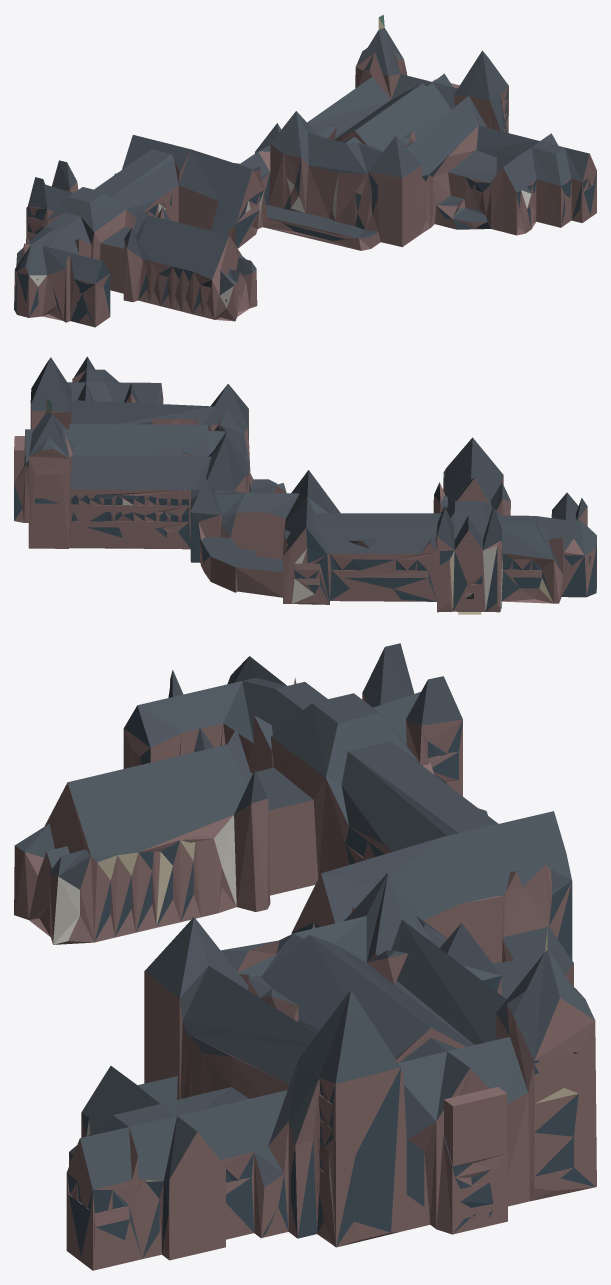
Rendered from tropenmuseum.lod2.glb.
The picture shows the model from 3 angles, top to bottom: view 1: azimuth 30°, elevation 25°; view 2: azimuth 150°, elevation 25°; view 3: azimuth 270°, elevation 25°; orthographic projection. The views are drawn at different scales.
Visible parts, largest first — view 1: lod2; view 2: lod2; view 3: lod2.
Boxes of the visible parts, <box> form: lod2: <box>14,14,596,327</box>; lod2: <box>14,356,596,614</box>; lod2: <box>14,643,596,1270</box>.
Bounding box in the file's own units: 189 × 45.06 × 92.98.
